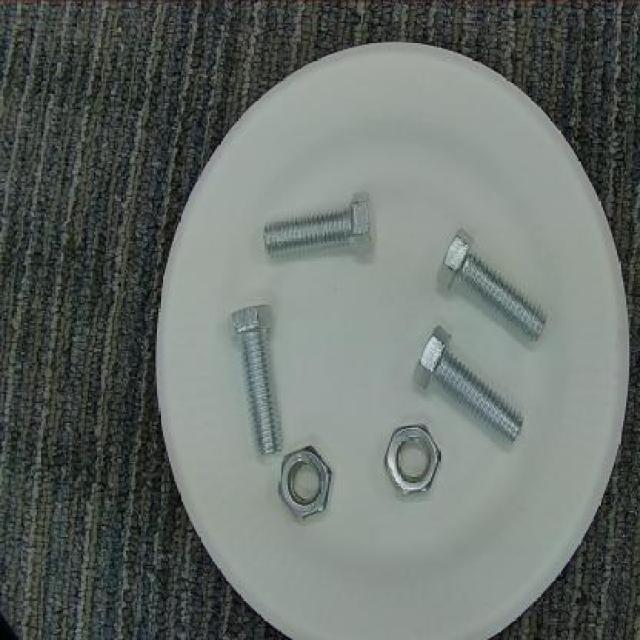Bolt: (409, 328, 530, 449), (437, 223, 551, 343), (223, 300, 287, 462), (261, 188, 377, 264)
Nut: (274, 445, 332, 523), (382, 423, 440, 497)
